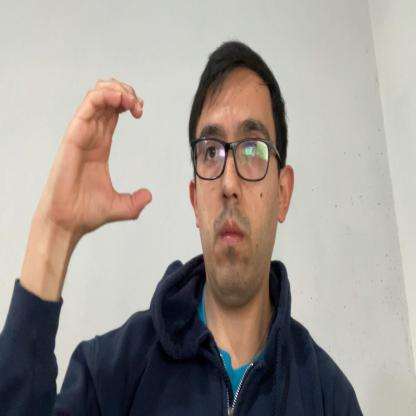C: (58, 75, 152, 234)
